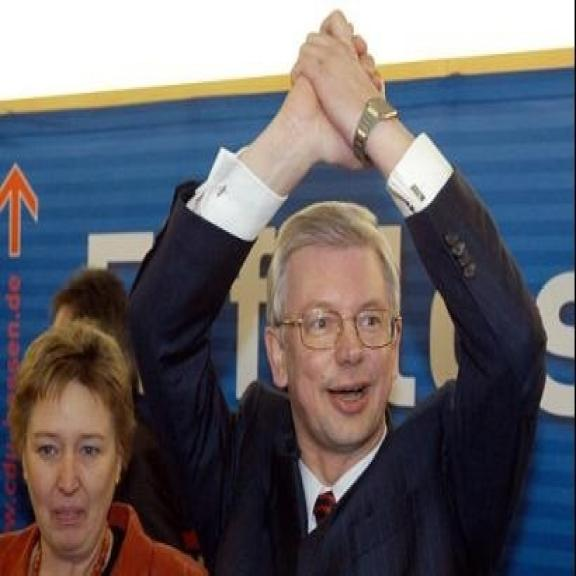face: (260, 234, 404, 451), (18, 362, 130, 560)
